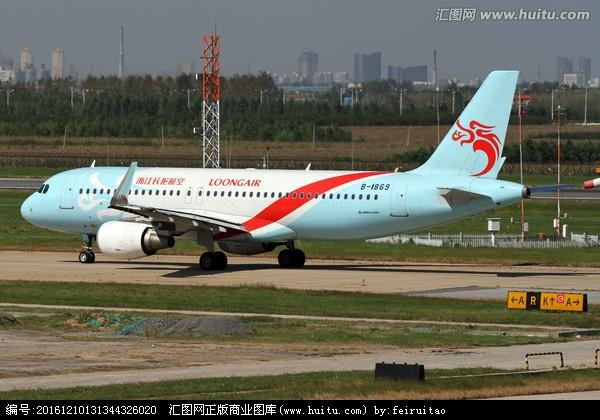airplane: (20, 68, 547, 280)
